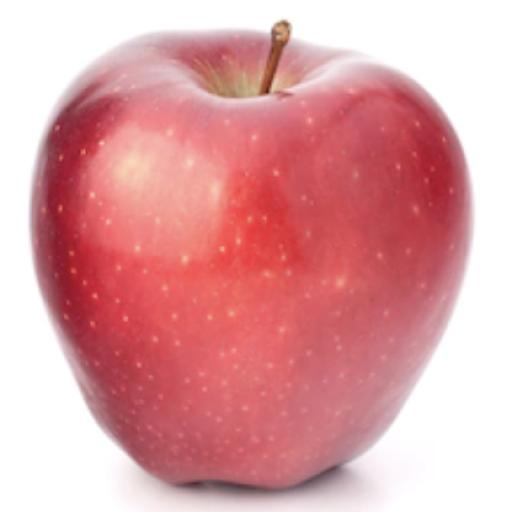apple: (31, 32, 471, 487)
